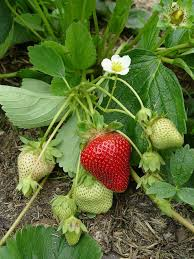Fresa: (77, 125, 135, 195)
